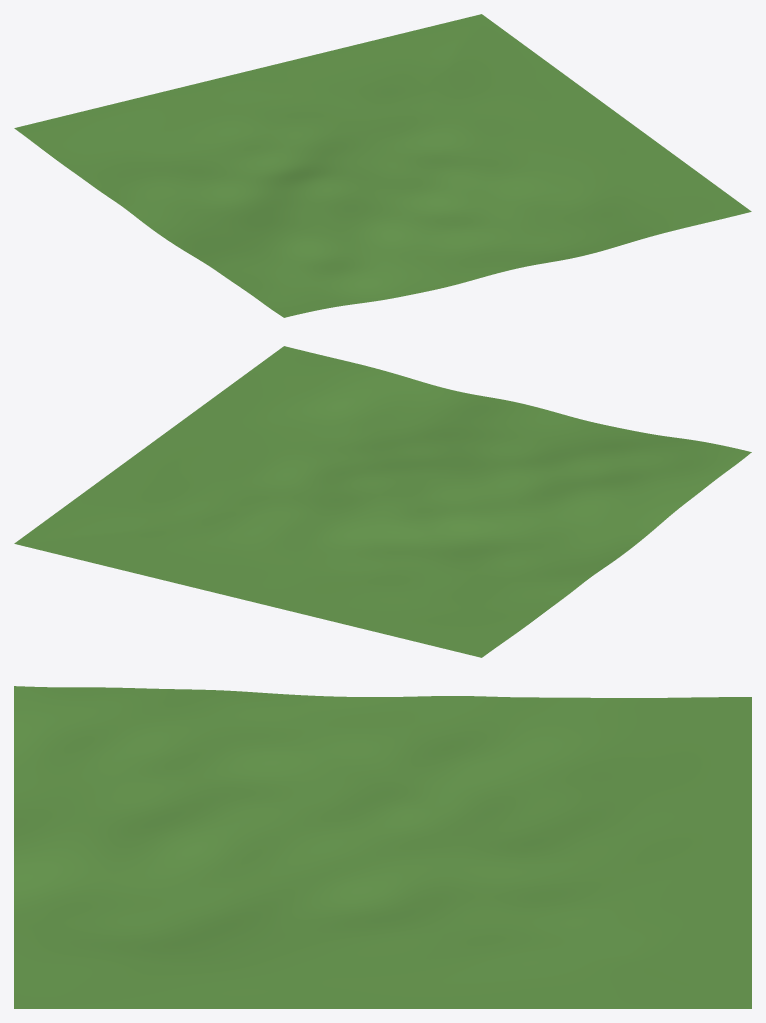
The model's file is SM_Terrain_07_00.fbx.
3 views of the same model, one above another, from view 1: azimuth 30°, elevation 25°; view 2: azimuth 150°, elevation 25°; view 3: azimuth 270°, elevation 25° (orthographic). The views are drawn at different scales.
Visible parts, largest first — view 1: SM_Terrain_07_00; view 2: SM_Terrain_07_00; view 3: SM_Terrain_07_00.
Part boxes in pixels (x1=…): SM_Terrain_07_00: x1=14, y1=14, x2=751, y2=317; SM_Terrain_07_00: x1=14, y1=346, x2=751, y2=657; SM_Terrain_07_00: x1=14, y1=686, x2=751, y2=1008.
Size of the model in its own units: 384 by 10.04 by 384.
